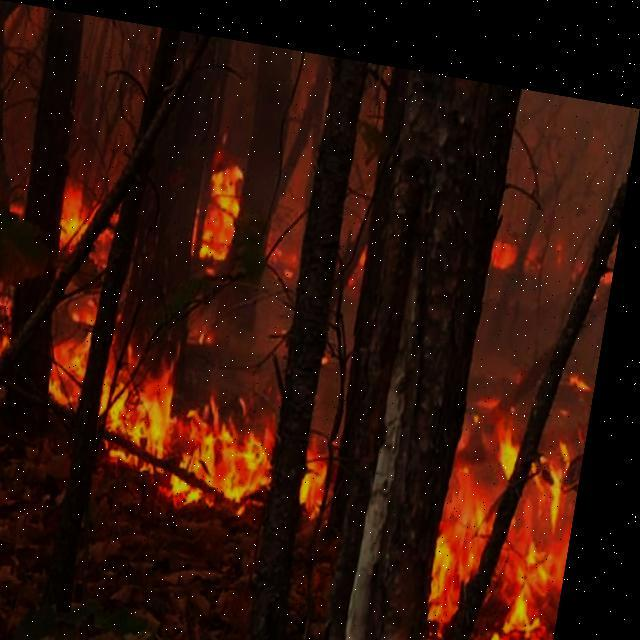Fire: (0, 125, 376, 509), (436, 394, 598, 639), (490, 206, 564, 252)
